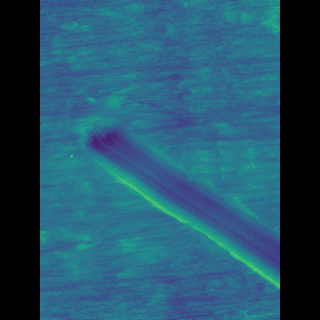Loch: (95, 115, 250, 291)
